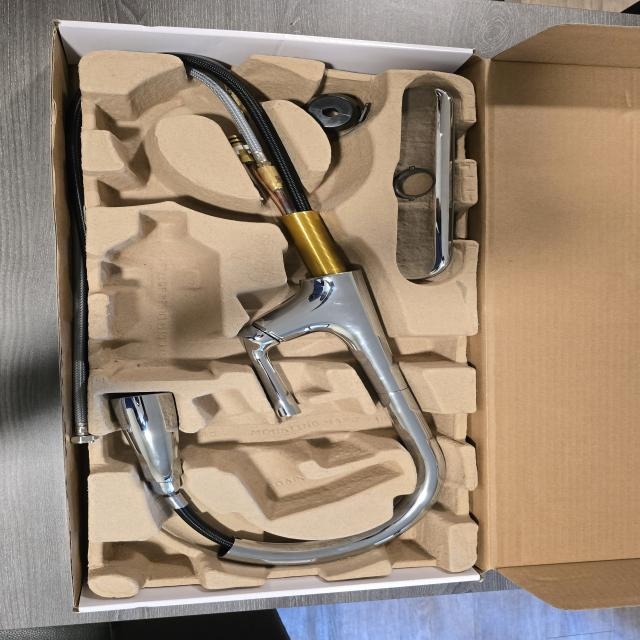1: (106, 53, 447, 568)
2m: (195, 390, 402, 518)
3m: (104, 213, 222, 379)
4: (390, 87, 453, 281)
5: (305, 92, 373, 132)
6m: (95, 81, 186, 139)
7m: (99, 154, 215, 209)
